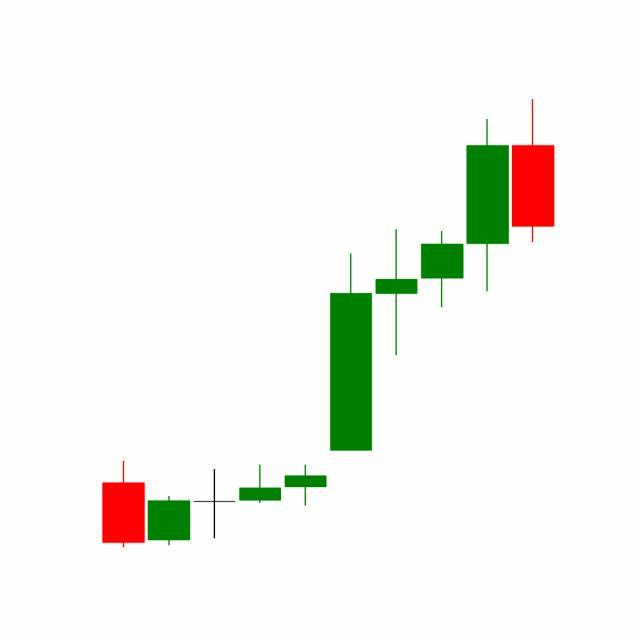Hikkake Pattern: (283, 116, 512, 511)
